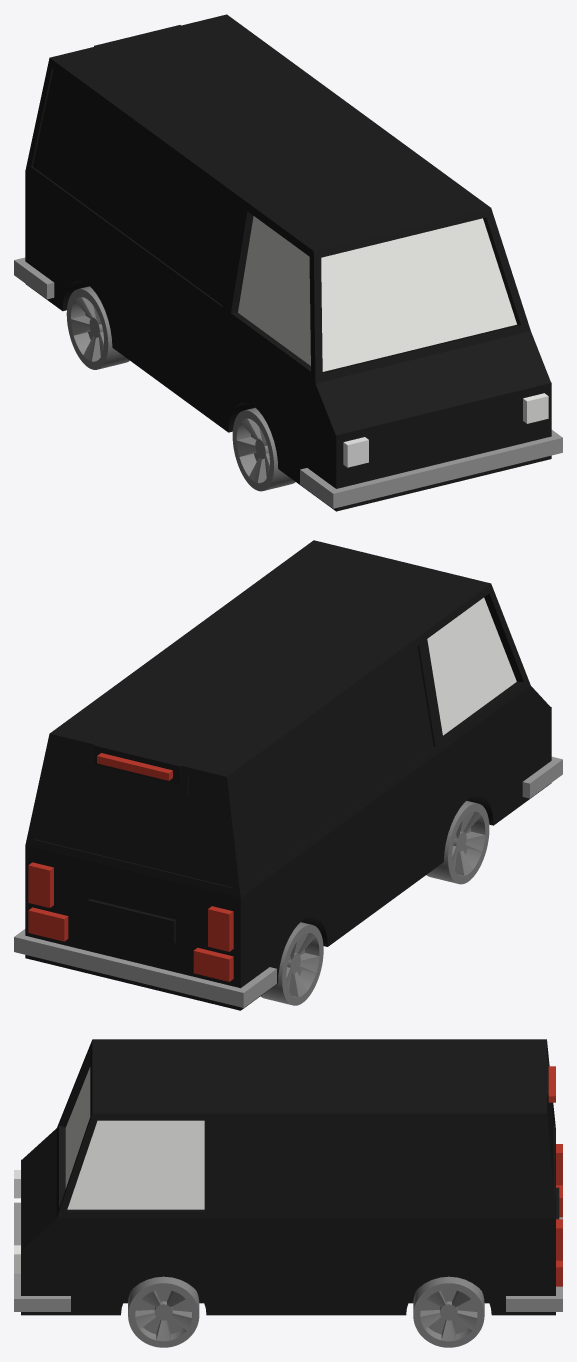
Rendered from Transporter v2.fbx.
The picture shows the model from 3 angles, top to bottom: view 1: azimuth 30°, elevation 25°; view 2: azimuth 150°, elevation 25°; view 3: azimuth 270°, elevation 25°; orthographic projection. The views are drawn at different scales.
Visible parts, largest first — view 1: Body1 (×5); view 2: Body1 (×7), Körper1 (×2); view 3: Body1 (×3).
Part boxes in pixels (x1,y1,x2,y2): Body1 (×5): (14, 14, 562, 511); Body1 (×7): (14, 540, 562, 1010); Körper1 (×2): (28, 907, 233, 981); Body1 (×3): (14, 1039, 562, 1347).
Bounding box in the file's own units: 640 × 700 × 1540.
